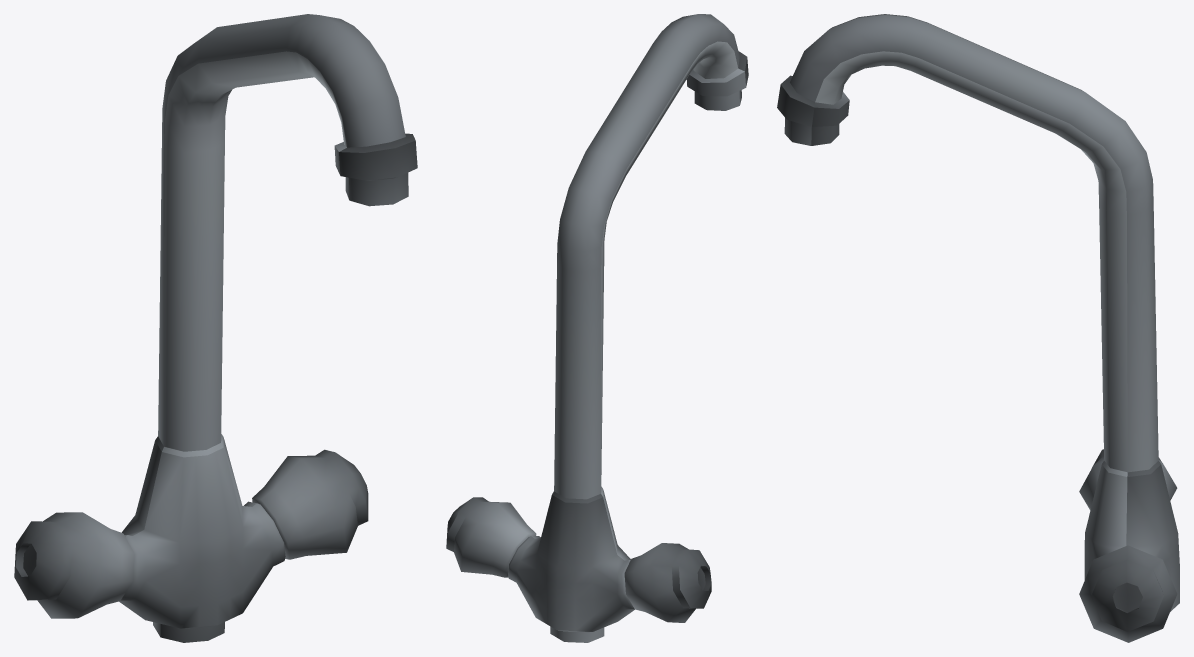
Rendered from sink.fbx.
3 renders of one model, left to right at view 1: azimuth 30°, elevation 25°; view 2: azimuth 150°, elevation 25°; view 3: azimuth 270°, elevation 25°, orthographic. The views are drawn at different scales.
Visible parts, largest first — view 1: sink.001; view 2: sink.001; view 3: sink.001.
Boxes of the visible parts, box(x1,y1,x2,y2) form: sink.001: box(14, 14, 417, 642); sink.001: box(446, 14, 748, 642); sink.001: box(777, 14, 1179, 642).
Size of the model in its own units: 53.85 by 107 by 64.21.
